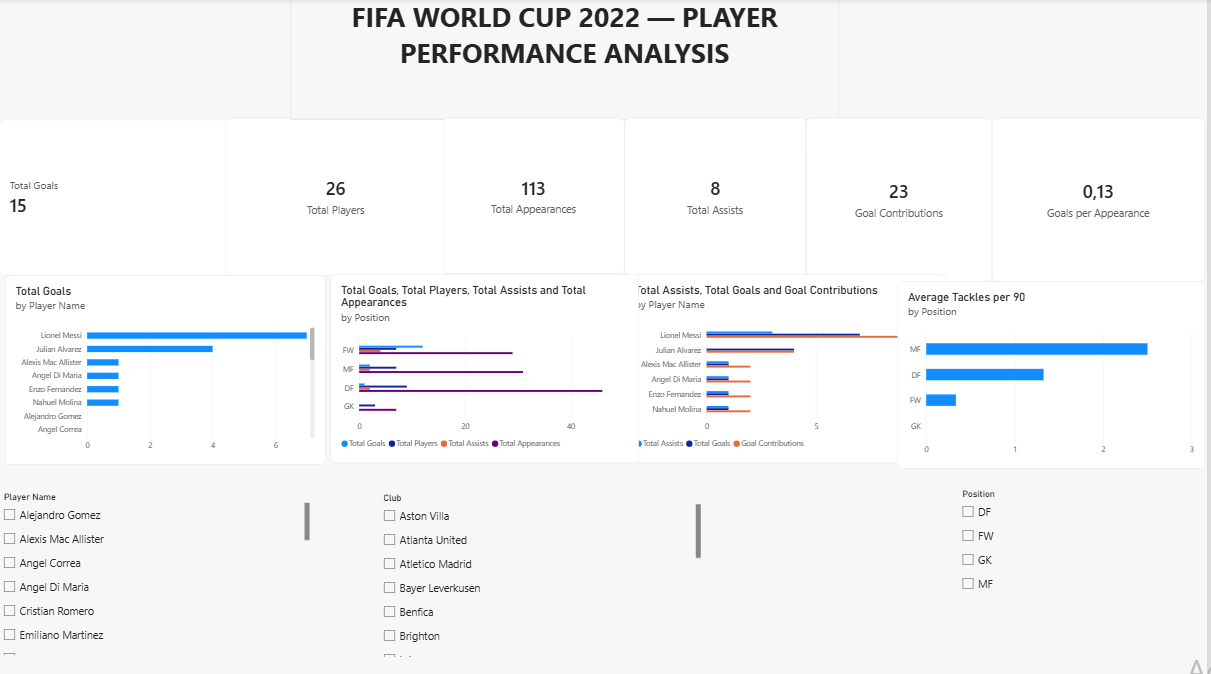

Layout of this report page (visuals, bound fields, positions):
{"tool":"powerbi","page":{"name":"FiFa Perfomance Overview 2","canvas":[1920,1080],"ordinal":5},"visuals":[{"type":"cardVisual","fields":{"Data":["PLAYERS.Total Goals"]},"box":[0,193.3,377,248.1],"z":0},{"type":"card","fields":{"Values":["PLAYERS.Total Players"]},"box":[360.3,190.9,350.7,250.5],"z":1},{"type":"textbox","box":[8.5,0,873.1,192.8],"z":2},{"type":"card","fields":{"Values":["PLAYERS.Total Assists"]},"box":[994.9,190.9,288.7,250.5],"z":3},{"type":"card","fields":{"Values":["PLAYERS.Goal Contributions"]},"box":[1283.6,190.9,295.9,260.1],"z":4},{"type":"clusteredBarChart","fields":{"Category":["PLAYERS.Player Name"],"Y":["PLAYERS.Total Goals"]},"box":[9.5,441.4,510.2,300.5],"z":5},{"type":"clusteredBarChart","fields":{"Category":["PLAYERS.Player Name"],"Y":["PLAYERS.Total Assists","PLAYERS.Total Goals","PLAYERS.Goal Contributions"]},"box":[994.9,439,510.6,300.6],"z":6},{"type":"clusteredBarChart","fields":{"Category":["PLAYERS.Position"],"Y":["PLAYERS.Total Goals","PLAYERS.Total Players","PLAYERS.Total Assists","PLAYERS.Total Appearances"]},"box":[527.3,439,490.4,300.5],"z":7},{"type":"clusteredBarChart","fields":{"Category":["PLAYERS.Position"],"Y":["PLAYERS.Average Tackles per 90"]},"box":[1429.2,450.9,489.1,298.2],"z":8},{"type":"slicer","fields":{"Values":["PLAYERS.Position"]},"box":[1524.6,780.2,393.7,264.8],"z":9},{"type":"slicer","fields":{"Values":["PLAYERS.Club"]},"box":[603.6,787.4,513,260.1],"z":10},{"type":"slicer","fields":{"Values":["PLAYERS.Player Name"]},"box":[0,785,493.9,260.1],"z":11},{"type":"card","fields":{"Values":["PLAYERS.Total Appearances"]},"box":[706.2,190.9,288.7,248.1],"z":12},{"type":"card","fields":{"Values":["PLAYERS.Goals per Appearance"]},"box":[1579.5,190.9,338.8,260.1],"z":13}]}

Visuals, with their boxes on the page's 1920x1080 design canvas (x1, y1, x2, y2). These are canvas units, not pixel positions in the 1211x674 screenshot, which may show the page scaled, cropped or inside an application window:
cardVisual - PLAYERS.Total Goals: (x1=0, y1=193, x2=377, y2=441)
card - PLAYERS.Total Players: (x1=360, y1=191, x2=711, y2=441)
textbox: (x1=8, y1=0, x2=882, y2=193)
card - PLAYERS.Total Assists: (x1=995, y1=191, x2=1284, y2=441)
card - PLAYERS.Goal Contributions: (x1=1284, y1=191, x2=1580, y2=451)
clusteredBarChart - PLAYERS.Player Name x PLAYERS.Total Goals: (x1=10, y1=441, x2=520, y2=742)
clusteredBarChart - PLAYERS.Player Name x PLAYERS.Total Assists: (x1=995, y1=439, x2=1506, y2=740)
clusteredBarChart - PLAYERS.Position x PLAYERS.Total Goals: (x1=527, y1=439, x2=1018, y2=740)
clusteredBarChart - PLAYERS.Position x PLAYERS.Average Tackles per 90: (x1=1429, y1=451, x2=1918, y2=749)
slicer - PLAYERS.Position: (x1=1525, y1=780, x2=1918, y2=1045)
slicer - PLAYERS.Club: (x1=604, y1=787, x2=1117, y2=1048)
slicer - PLAYERS.Player Name: (x1=0, y1=785, x2=494, y2=1045)
card - PLAYERS.Total Appearances: (x1=706, y1=191, x2=995, y2=439)
card - PLAYERS.Goals per Appearance: (x1=1580, y1=191, x2=1918, y2=451)
